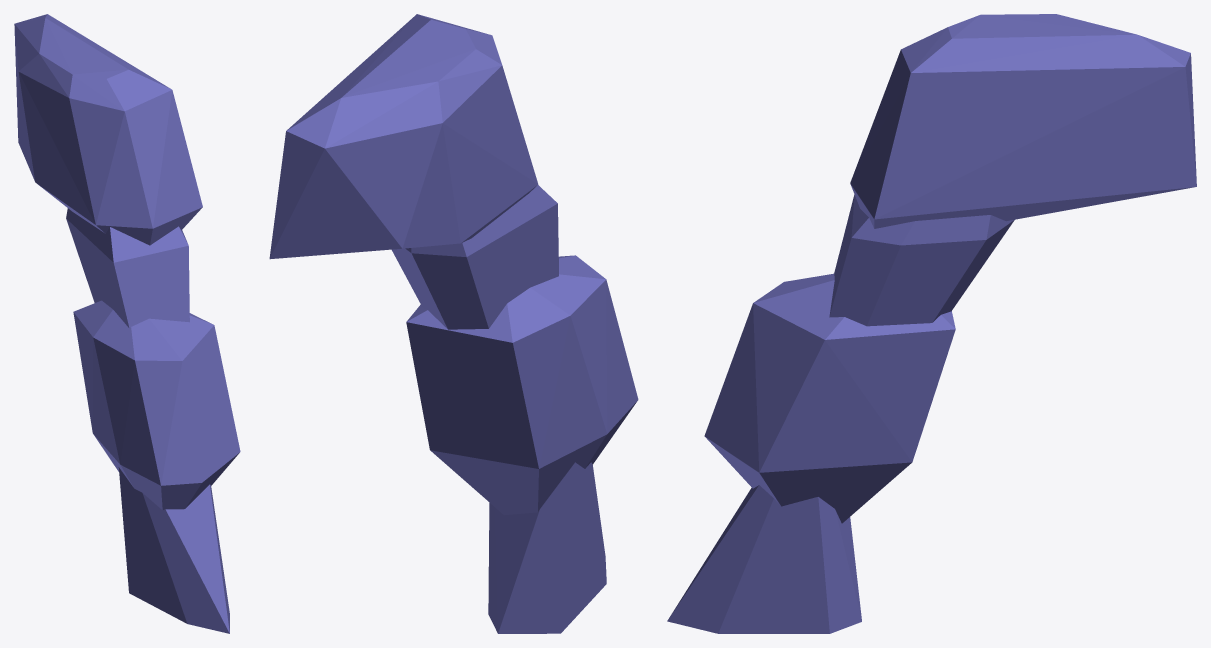
Rendered from Cliff_Spire_08_Arch_Collider_01.FBX.
The picture shows the model from 3 angles, left to right: view 1: azimuth 30°, elevation 25°; view 2: azimuth 150°, elevation 25°; view 3: azimuth 270°, elevation 25°; orthographic projection. The views are drawn at different scales.
Parts seen in each view (by area): view 1: COLLIDER3, COLLIDER2, COLLIDER4, COLLIDER1; view 2: COLLIDER3, COLLIDER2, COLLIDER4, COLLIDER1; view 3: COLLIDER3, COLLIDER2, COLLIDER4, COLLIDER1.
Boxes of the visible parts, x1=… form: COLLIDER3: x1=14, y1=14, x2=202, y2=245; COLLIDER2: x1=73, y1=300, x2=240, y2=510; COLLIDER4: x1=118, y1=467, x2=229, y2=633; COLLIDER1: x1=66, y1=208, x2=189, y2=328; COLLIDER3: x1=269, y1=14, x2=538, y2=259; COLLIDER2: x1=406, y1=255, x2=638, y2=514; COLLIDER4: x1=488, y1=462, x2=606, y2=633; COLLIDER1: x1=392, y1=185, x2=558, y2=329; COLLIDER3: x1=850, y1=14, x2=1196, y2=228; COLLIDER2: x1=704, y1=273, x2=955, y2=523; COLLIDER4: x1=667, y1=485, x2=861, y2=633; COLLIDER1: x1=829, y1=194, x2=1014, y2=326.
Bounding box in the file's own units: 139 × 566 × 460.
